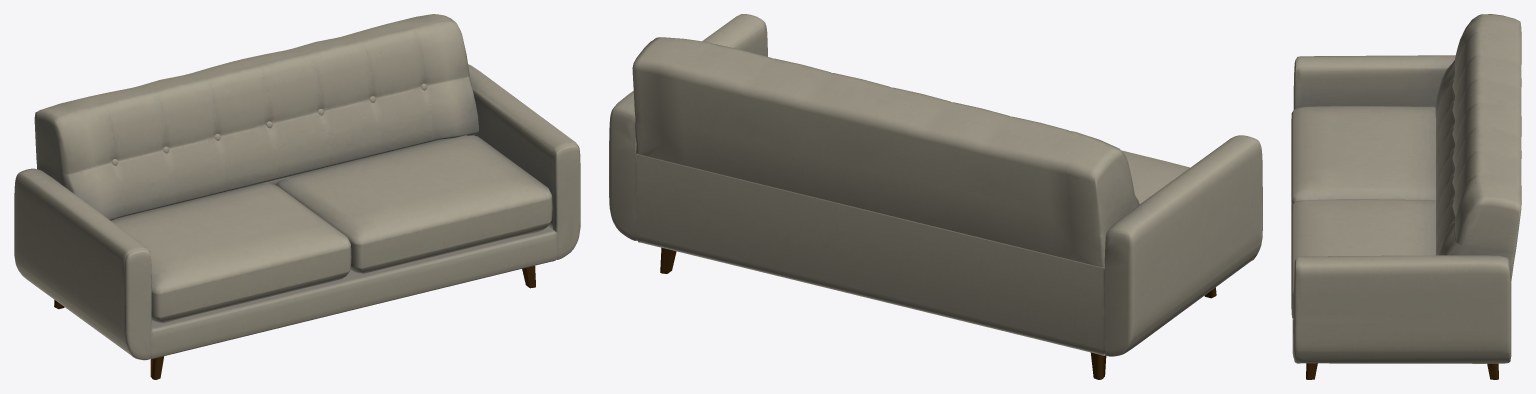
File: B072PZC1KS.glb
The picture shows the model from 3 angles, left to right: view 1: azimuth 30°, elevation 25°; view 2: azimuth 150°, elevation 25°; view 3: azimuth 270°, elevation 25°; orthographic projection. The views are drawn at different scales.
Visible parts, largest first — view 1: RootNode; view 2: RootNode; view 3: RootNode.
Part boxes in pixels (box(x1,y1,x2,y2)): RootNode: box(14, 14, 580, 379); RootNode: box(609, 14, 1262, 379); RootNode: box(1291, 14, 1521, 379).
Bounding box in the file's own units: 2.14 × 0.8915 × 0.9805.
Materials: 1 (1 with a texture image).
